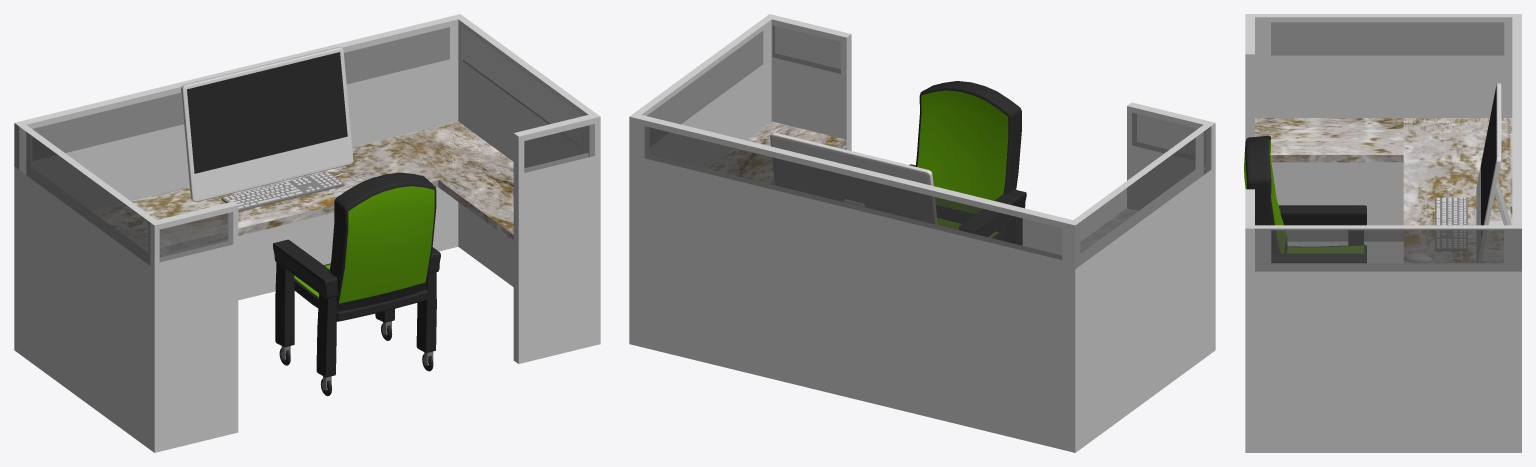
File: OFFICE SET.fbx
3 renders of one model, left to right at view 1: azimuth 30°, elevation 25°; view 2: azimuth 150°, elevation 25°; view 3: azimuth 270°, elevation 25°, orthographic.
Visible parts, largest first — view 1: office_desk13, Mac, Sofa_4, Sofa_5, Sofa_29, Sofa_26, kEYBOARD, Sofa_3, Sofa_28; view 2: office_desk13, Sofa_4, Mac, Sofa_5; view 3: office_desk13, Sofa_4, Mac, Sofa_5, kEYBOARD, Sofa_2, Sofa_3, Mac_hanfle.
Boxes of the visible parts, x1=… form: office_desk13: x1=14, y1=14, x2=600, y2=452; Mac: x1=181, y1=47, x2=353, y2=201; Sofa_4: x1=329, y1=172, x2=436, y2=321; Sofa_5: x1=273, y1=239, x2=337, y2=298; Sofa_29: x1=316, y1=293, x2=336, y2=377; Sofa_26: x1=275, y1=262, x2=294, y2=347; kEYBOARD: x1=221, y1=171, x2=344, y2=211; Sofa_3: x1=294, y1=263, x2=427, y2=321; Sofa_28: x1=416, y1=272, x2=436, y2=353; office_desk13: x1=629, y1=14, x2=1215, y2=452; Sofa_4: x1=915, y1=81, x2=1021, y2=239; Mac: x1=770, y1=132, x2=937, y2=224; Sofa_5: x1=959, y1=189, x2=1026, y2=236; office_desk13: x1=1245, y1=14, x2=1521, y2=452; Sofa_4: x1=1244, y1=135, x2=1287, y2=254; Mac: x1=1476, y1=83, x2=1501, y2=262; Sofa_5: x1=1278, y1=205, x2=1366, y2=225; kEYBOARD: x1=1435, y1=197, x2=1467, y2=250; Sofa_2: x1=1271, y1=254, x2=1366, y2=262; Sofa_3: x1=1287, y1=245, x2=1366, y2=253; Mac_hanfle: x1=1488, y1=180, x2=1510, y2=232.
Size of the model in its own units: 144 by 72.58 by 78.9.
